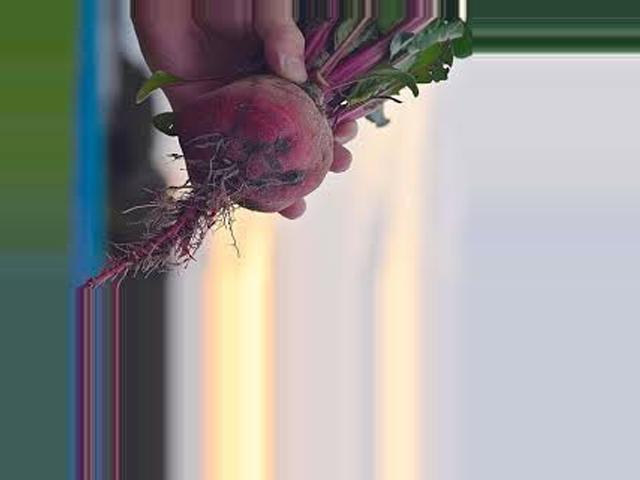beet: (80, 17, 471, 290)
